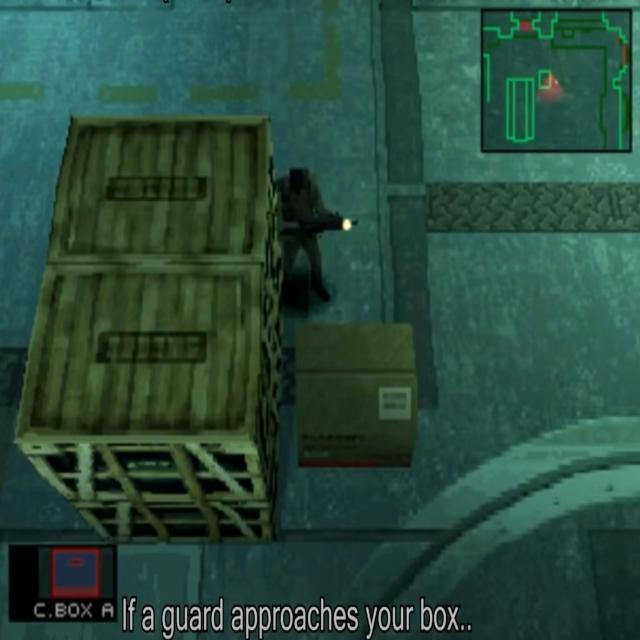snake-in-cardboard-boxes: (294, 318, 418, 476)
